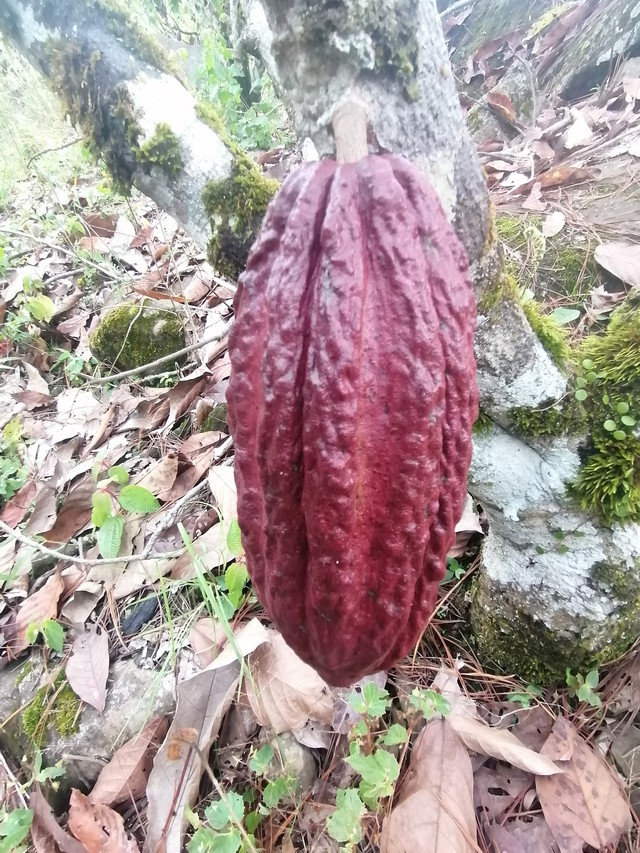Health: (218, 141, 488, 692)
